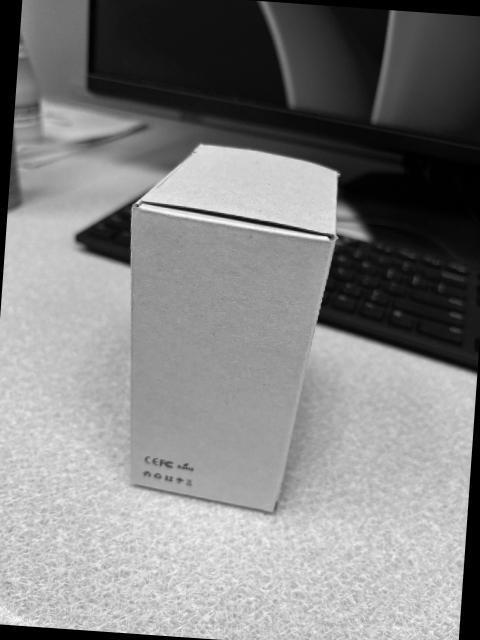CameraBox1: (127, 144, 339, 515)
